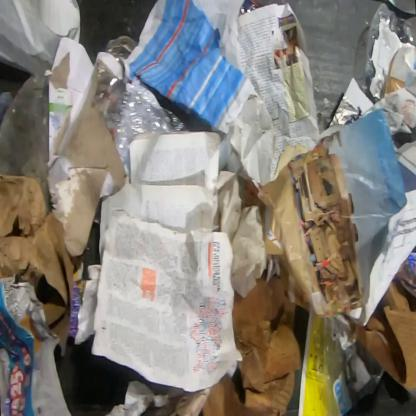cardboard: (201, 273, 303, 415), (352, 279, 415, 392)
rigid_plastic: (365, 2, 415, 80)
soft_plastic: (92, 36, 191, 164), (0, 73, 53, 215), (322, 312, 386, 415)
